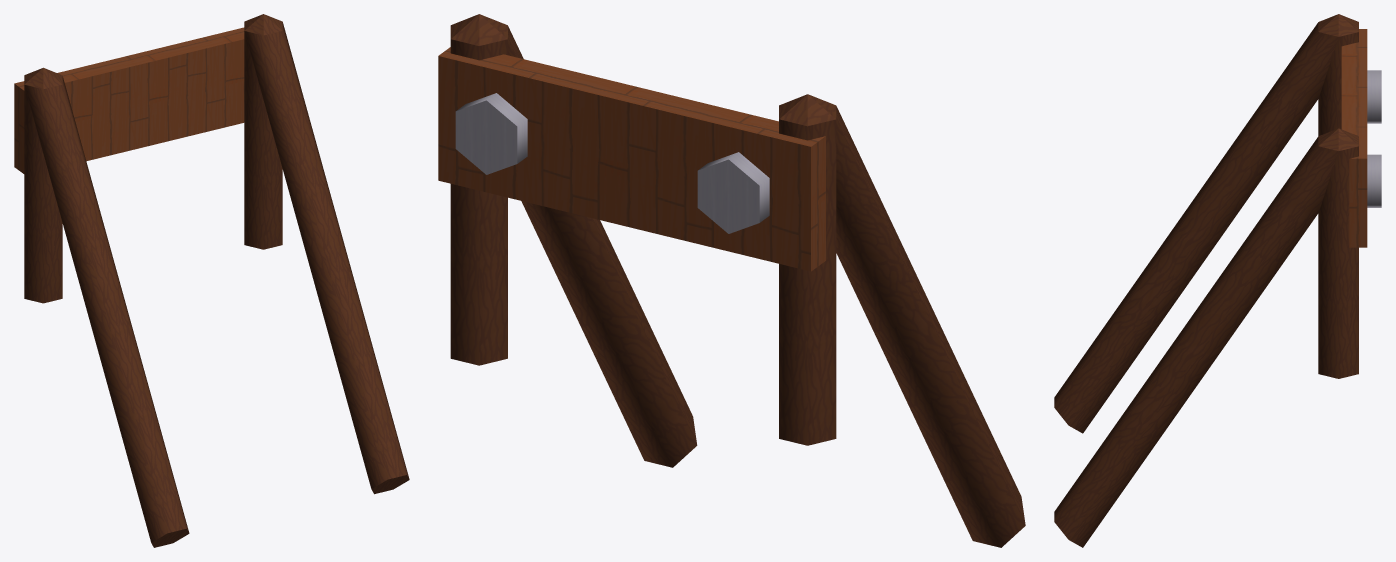
File: TrainBuffer.fbx
3 views of the same model, side by side, from view 1: azimuth 30°, elevation 25°; view 2: azimuth 150°, elevation 25°; view 3: azimuth 270°, elevation 25° (orthographic). The views are drawn at different scales.
Parts seen in each view (by area): view 1: TrainBuffer; view 2: TrainBuffer; view 3: TrainBuffer.
Boxes of the visible parts, left/top/right/bottom form: TrainBuffer: left=14, top=14, right=409, bottom=547; TrainBuffer: left=438, top=14, right=1025, bottom=547; TrainBuffer: left=1054, top=14, right=1381, bottom=547.
Size of the model in its own units: 675 by 973 by 697.
